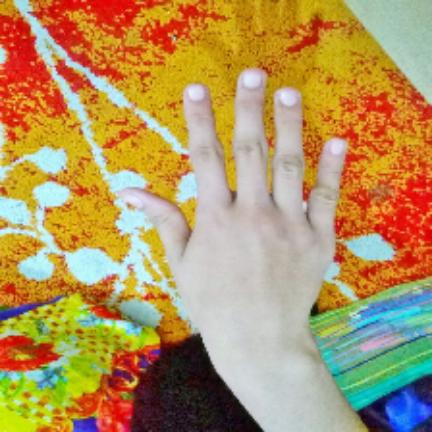Nail: (241, 68, 262, 89), (278, 87, 300, 106), (186, 84, 206, 101), (121, 193, 142, 209), (331, 138, 347, 154)
